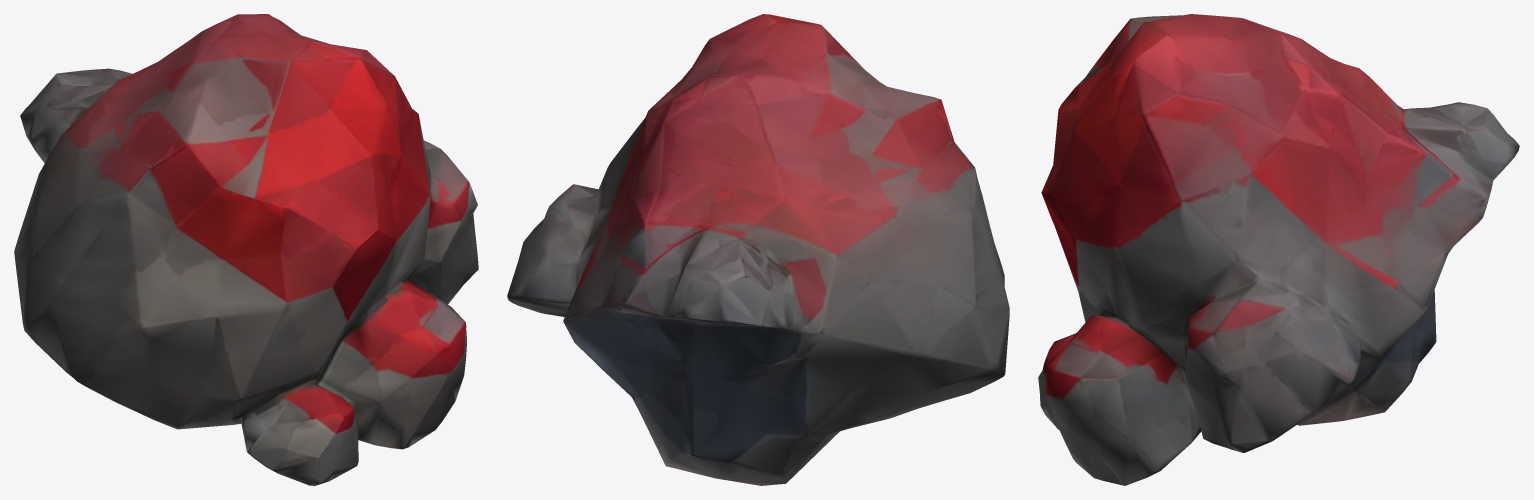
File: rock_volcano.glb
3 renders of one model, left to right at view 1: azimuth 30°, elevation 25°; view 2: azimuth 150°, elevation 25°; view 3: azimuth 270°, elevation 25°, orthographic. The views are drawn at different scales.
Parts seen in each view (by area): view 1: BakeLow; view 2: BakeLow; view 3: BakeLow.
Boxes of the visible parts, left/top/right/bottom form: BakeLow: left=14, top=14, right=478, bottom=485; BakeLow: left=507, top=14, right=1009, bottom=485; BakeLow: left=1038, top=14, right=1519, bottom=485.
Size of the model in its own units: 0.9054 by 0.7337 by 0.7982.
1 material, 1 textured.
